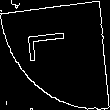L_E: (30, 37, 80, 73)
